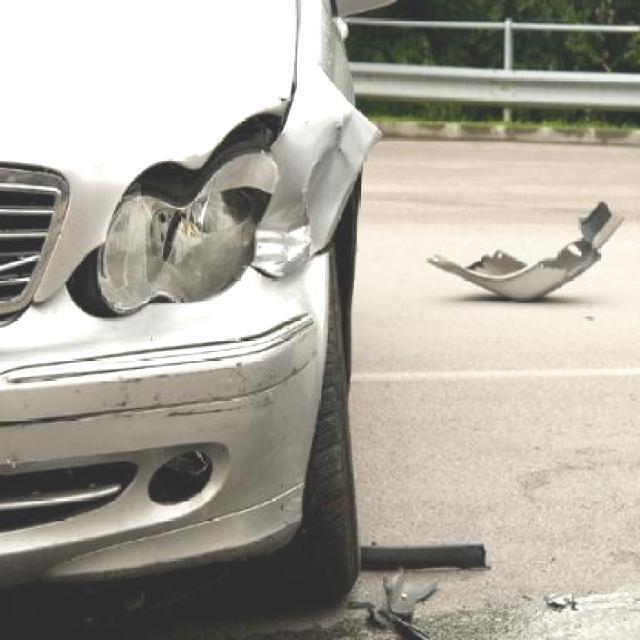minor: (102, 377, 174, 397), (231, 365, 257, 386), (286, 512, 298, 531)
moderate: (66, 43, 382, 343), (0, 392, 272, 431), (154, 191, 271, 252)
